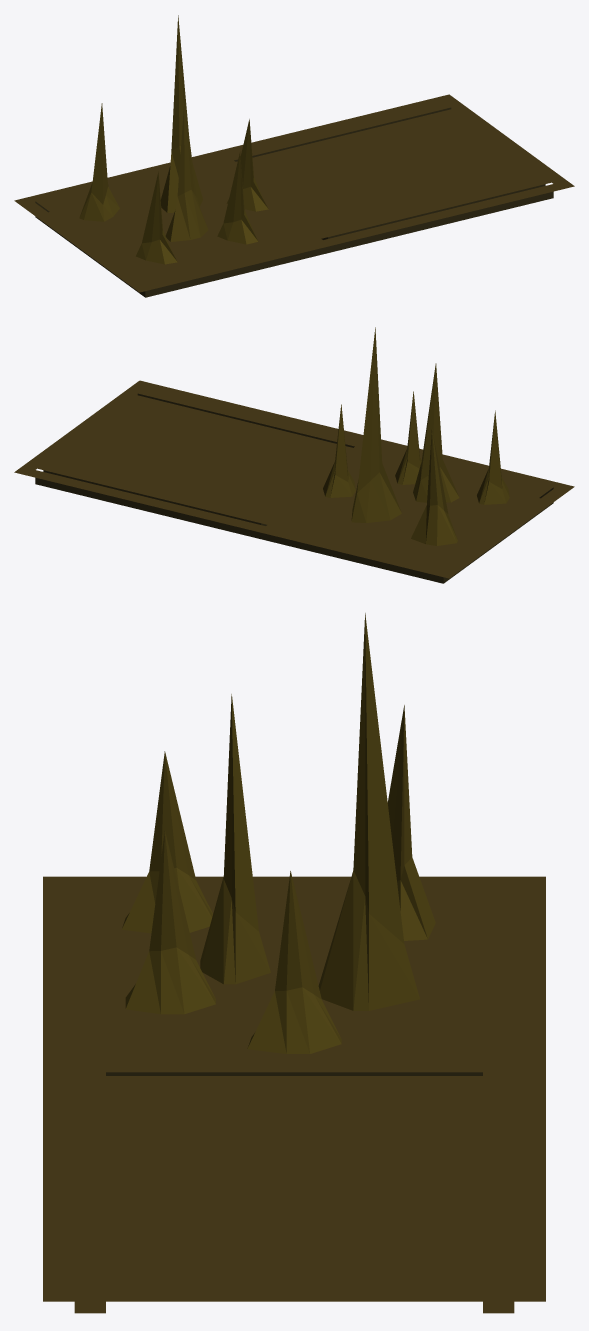
Rendered from gfx_64.obj.
3 renders of one model, top to bottom at view 1: azimuth 30°, elevation 25°; view 2: azimuth 150°, elevation 25°; view 3: azimuth 270°, elevation 25°, orthographic. The views are drawn at different scales.
Size of the model in its own units: 2 by 0.8984 by 1.
